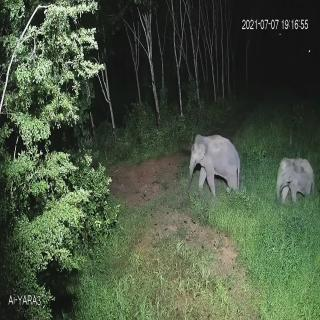Elephant: (185, 128, 245, 208), (272, 149, 319, 207)
